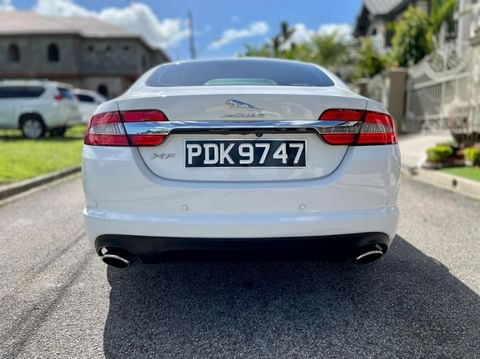License-Plate: (185, 139, 305, 165)
